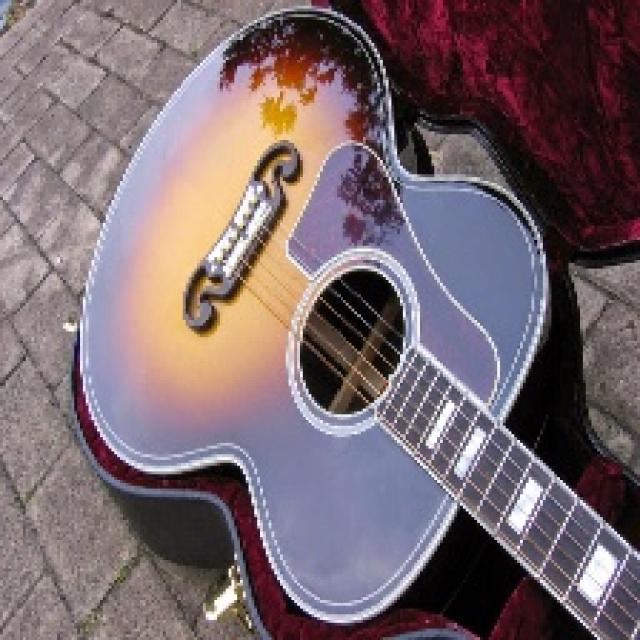guitar: (70, 5, 640, 640)
